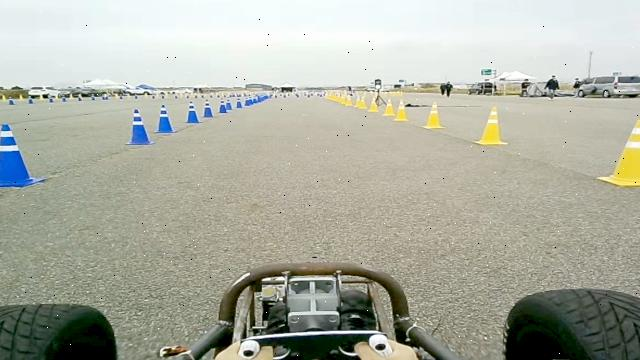blue cone: (0, 122, 45, 187), (125, 109, 153, 146), (153, 103, 177, 134), (185, 100, 201, 123), (202, 99, 214, 118), (218, 100, 227, 114), (224, 99, 233, 110), (235, 94, 242, 108)
yellow cone: (595, 118, 640, 186), (472, 105, 508, 146), (422, 100, 444, 129), (392, 98, 409, 121), (382, 98, 395, 116), (368, 100, 378, 112), (354, 98, 366, 108), (344, 96, 353, 106)
